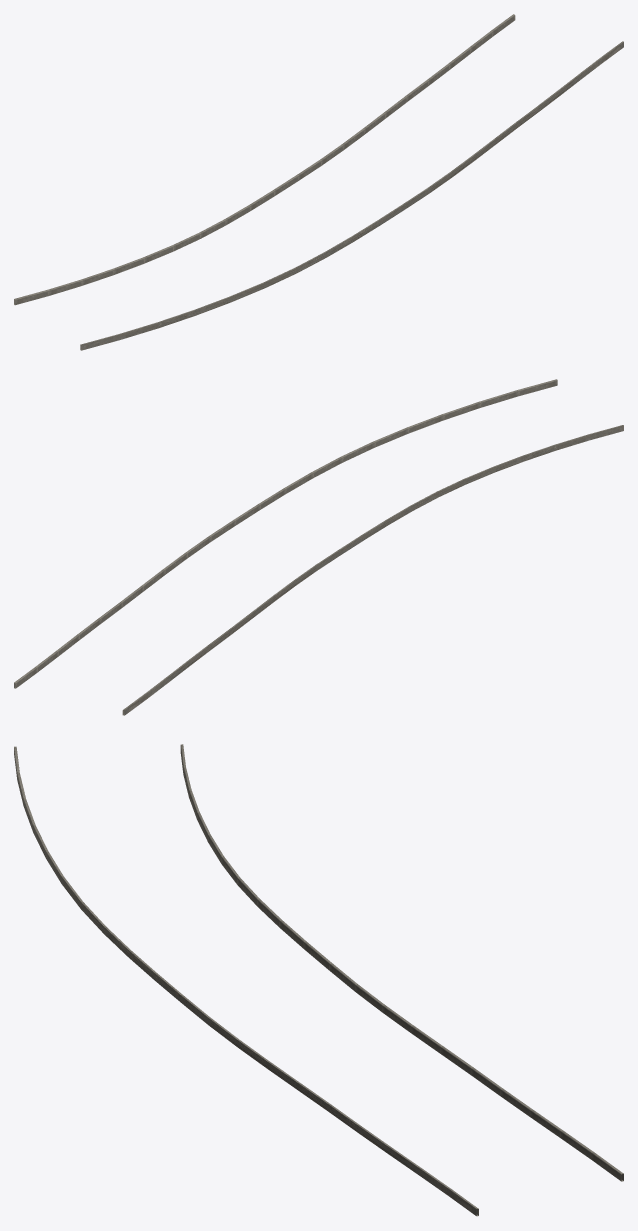
The model's file is SM_Curb_01.fbx.
3 renders of one model, top to bottom at view 1: azimuth 30°, elevation 25°; view 2: azimuth 210°, elevation 25°; view 3: azimuth 270°, elevation 25°, orthographic. The views are drawn at different scales.
Visible parts, largest first — view 1: SM_Curb_01; view 2: SM_Curb_01; view 3: SM_Curb_01.
Part boxes in pixels (left/top/right/bottom): SM_Curb_01: left=14, top=14, right=623, bottom=350; SM_Curb_01: left=14, top=379, right=623, bottom=715; SM_Curb_01: left=14, top=744, right=623, bottom=1216.
Bounding box in the file's own units: 10061 × 5583 × 75.14.
Materials: 1 (1 with a texture image).
